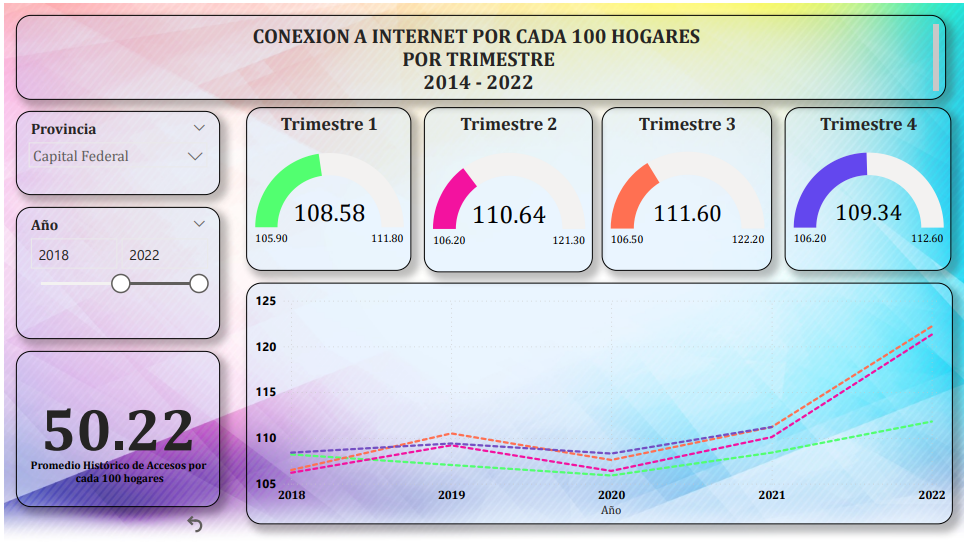

What the dashboard file says about the page in this screenshot:
{"tool":"powerbi","page":{"name":"Conexion / 100 Hogares","canvas":[1280,720],"ordinal":1},"visuals":[{"type":"textbox","box":[15.6,15.6,1240.6,113.2],"z":0},{"type":"gauge","title":"Trimestre 1","fields":{"Y":["Avg(bd_telecomunicaciones data_prueba_separacion.Trimestre 1)"],"MinValue":["Min(bd_telecomunicaciones data_prueba_separacion.Trimestre 1)"],"MaxValue":["Max(bd_telecomunicaciones data_prueba_separacion.Trimestre 1)"]},"box":[322.9,139.5,219.7,217.8],"z":1000},{"type":"gauge","title":"Trimestre 4","fields":{"Y":["Avg(bd_telecomunicaciones data_prueba_separacion.Trimestre 4)"],"MinValue":["Min(bd_telecomunicaciones data_prueba_separacion.Trimestre 4)"],"MaxValue":["Max(bd_telecomunicaciones data_prueba_separacion.Trimestre 4)"]},"box":[1041.2,139.5,221.6,217.8],"z":2000},{"type":"gauge","title":"Trimestre 3","fields":{"Y":["Avg(bd_telecomunicaciones data_prueba_separacion.Trimestre 3)"],"MinValue":["Min(bd_telecomunicaciones data_prueba_separacion.Trimestre 3)"],"MaxValue":["Max(bd_telecomunicaciones data_prueba_separacion.Trimestre 3)"]},"box":[796.7,139.5,227.3,217.8],"z":3000},{"type":"gauge","title":"Trimestre 2","fields":{"Y":["Avg(bd_telecomunicaciones data_prueba_separacion.Trimestre 2)"],"MinValue":["Min(bd_telecomunicaciones data_prueba_separacion.Trimestre 2)"],"MaxValue":["Max(bd_telecomunicaciones data_prueba_separacion.Trimestre 2)1"]},"box":[559.8,139.5,225.4,219.7],"z":4000},{"type":"slicer","fields":{"Values":["bd_telecomunicaciones data_prueba_separacion.Año.Variación.Jerarquía de fechas.Año"]},"box":[16,272,272,176],"z":5000},{"type":"slicer","fields":{"Values":["bd_telecomunicaciones data_prueba_separacion.Provincia"]},"box":[16,144,272,112],"z":6000},{"type":"lineChart","fields":{"Y":["Avg(bd_telecomunicaciones data_prueba_separacion.Trimestre 1)","Avg(bd_telecomunicaciones data_prueba_separacion.Trimestre 2)","Avg(bd_telecomunicaciones data_prueba_separacion.Trimestre 3)","Avg(bd_telecomunicaciones data_prueba_separacion.Trimestre 4)"],"Category":["bd_telecomunicaciones data_prueba_separacion.Año.Variación.Jerarquía de fechas.Año"]},"box":[322.9,372.5,941.9,322.9],"z":7000},{"type":"card","fields":{"Values":["Avg(bd_telecomunicaciones data_por_cada_100_hogares.Accesos por cada 100 hogares)"]},"box":[16,464,272,208],"z":8000},{"type":"actionButton","box":[239.1,679,48.1,31.1],"z":9000}]}

Visuals, with their boxes in screenshot pixels (x1, y1, x2, y2), scaled from the page's 1280x720 canvas onto the 969x542 screenshot:
textbox: <bbox>12, 12, 951, 97</bbox>
"Trimestre 1" gauge: <bbox>244, 105, 411, 269</bbox>
"Trimestre 4" gauge: <bbox>788, 105, 956, 269</bbox>
"Trimestre 3" gauge: <bbox>603, 105, 775, 269</bbox>
"Trimestre 2" gauge: <bbox>424, 105, 594, 270</bbox>
slicer - bd_telecomunicaciones data_prueba_separacion.Año.Variación.Jerarquía de fechas.Año: <bbox>12, 205, 218, 337</bbox>
slicer - bd_telecomunicaciones data_prueba_separacion.Provincia: <bbox>12, 108, 218, 193</bbox>
lineChart - Avg(bd_telecomunicaciones data_prueba_separacion.Trimestre 1) x Avg(bd_telecomunicaciones data_prueba_separacion.Trimestre 2): <bbox>244, 280, 957, 523</bbox>
card - Avg(bd_telecomunicaciones data_por_cada_100_hogares.Accesos por cada 100 hogares): <bbox>12, 349, 218, 506</bbox>
actionButton: <bbox>181, 511, 217, 535</bbox>
